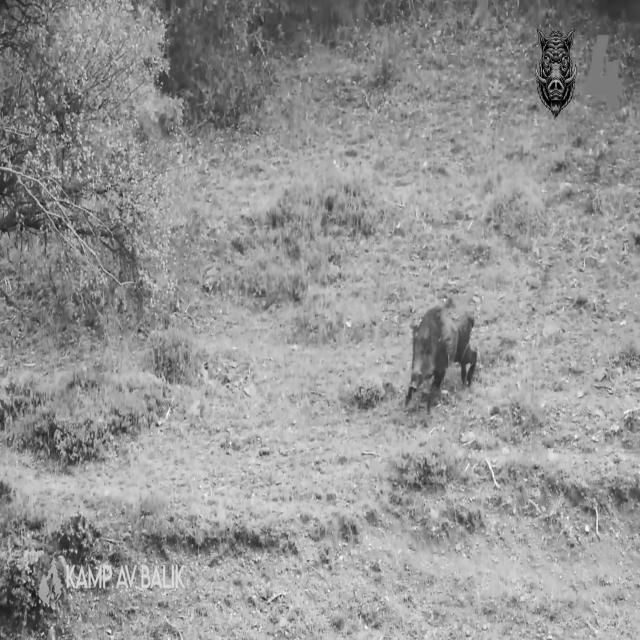boar: (405, 297, 476, 409), (536, 26, 578, 116)
